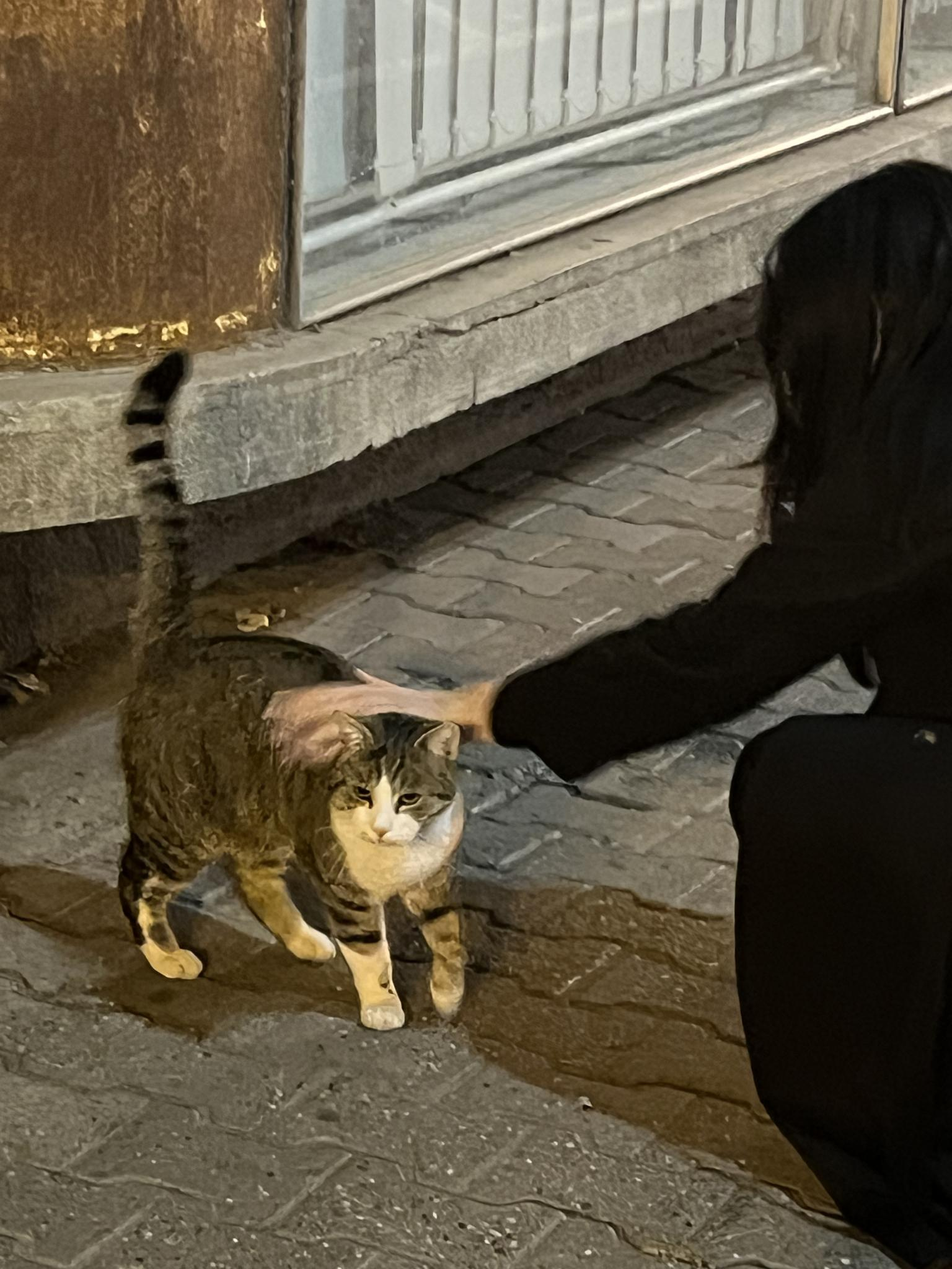macka: (119, 351, 468, 1032)
